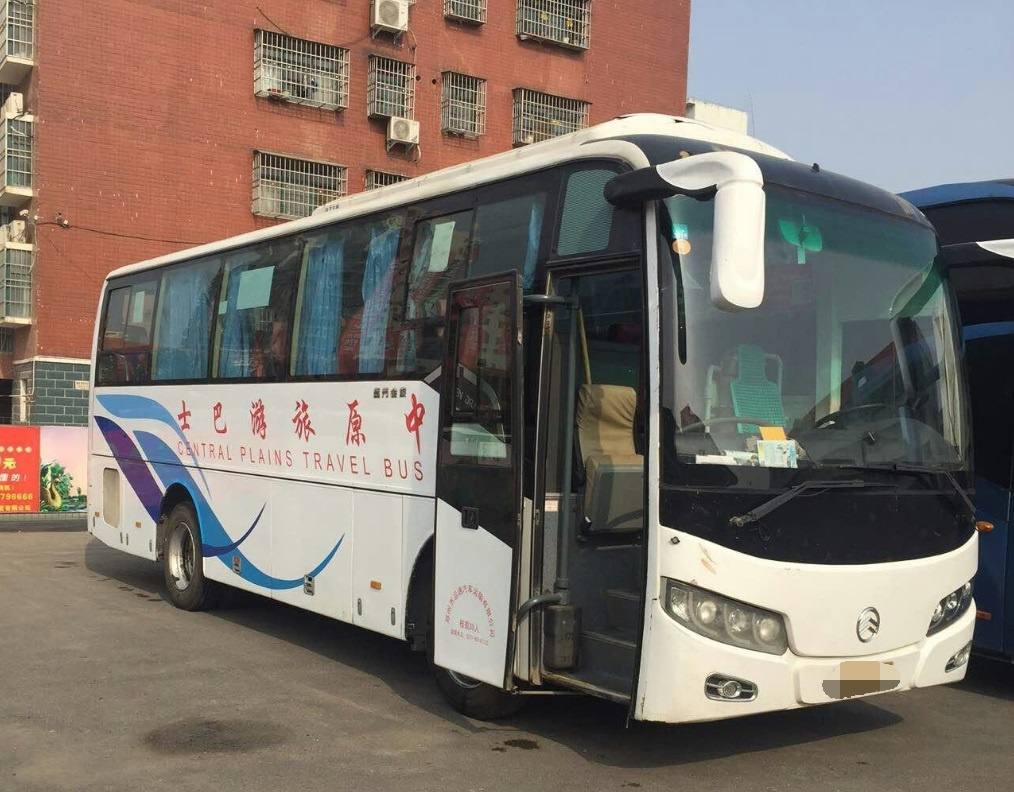bus: (89, 128, 975, 740)
